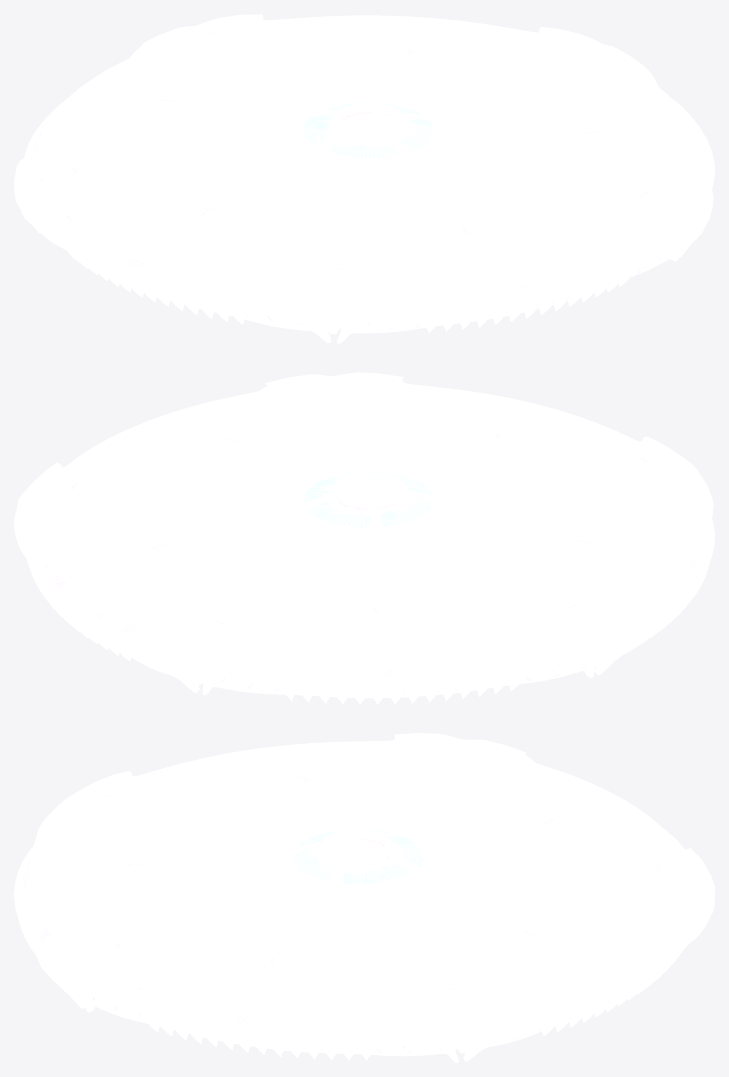
File: mothership.glb
3 renders of one model, top to bottom at view 1: azimuth 30°, elevation 25°; view 2: azimuth 150°, elevation 25°; view 3: azimuth 270°, elevation 25°, orthographic.
Parts seen in each view (by area): view 1: SM_WZ_Skyfire_Exterior_LOD0.mo_0; view 2: SM_WZ_Skyfire_Exterior_LOD0.mo_0; view 3: SM_WZ_Skyfire_Exterior_LOD0.mo_0.
Boxes of the visible parts, x1,y1,x2,y2 form: SM_WZ_Skyfire_Exterior_LOD0.mo_0: [14, 14, 714, 343]; SM_WZ_Skyfire_Exterior_LOD0.mo_0: [14, 372, 714, 704]; SM_WZ_Skyfire_Exterior_LOD0.mo_0: [14, 733, 714, 1062].
Size of the model in its own units: 617 by 124 by 619.
Materials: 2 (2 with a texture image).
